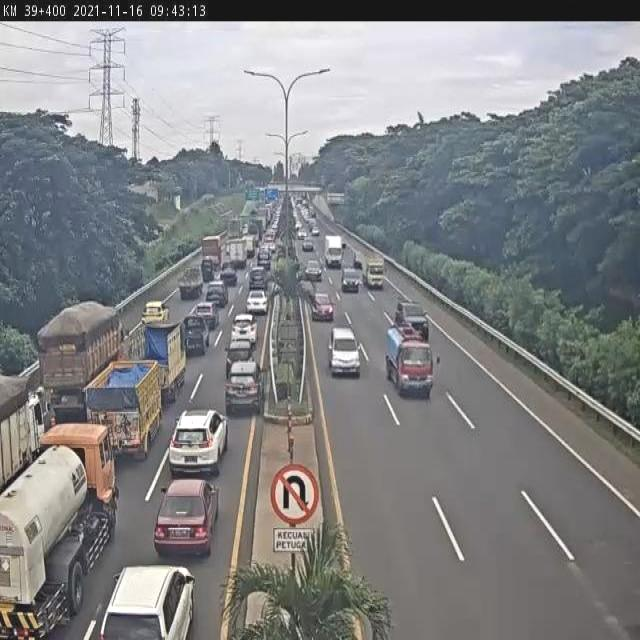Car: (98, 564, 196, 639), (153, 478, 220, 559), (169, 408, 229, 477), (224, 360, 265, 415), (327, 327, 362, 379), (394, 300, 429, 340), (183, 313, 212, 357), (226, 338, 256, 373), (229, 316, 258, 350), (309, 292, 334, 321), (194, 302, 218, 331), (364, 257, 385, 289), (205, 280, 228, 309), (141, 302, 169, 325), (246, 290, 268, 316), (341, 266, 362, 293), (249, 265, 266, 290), (304, 260, 323, 282), (219, 264, 238, 286), (258, 252, 272, 272), (264, 239, 276, 258), (353, 251, 363, 269), (302, 238, 314, 252), (276, 244, 286, 260)
Truck: (0, 422, 118, 640), (39, 302, 124, 408), (86, 359, 162, 452), (384, 323, 434, 398), (135, 323, 185, 398), (178, 264, 203, 302), (324, 232, 344, 268), (202, 234, 222, 268), (229, 237, 247, 270)
